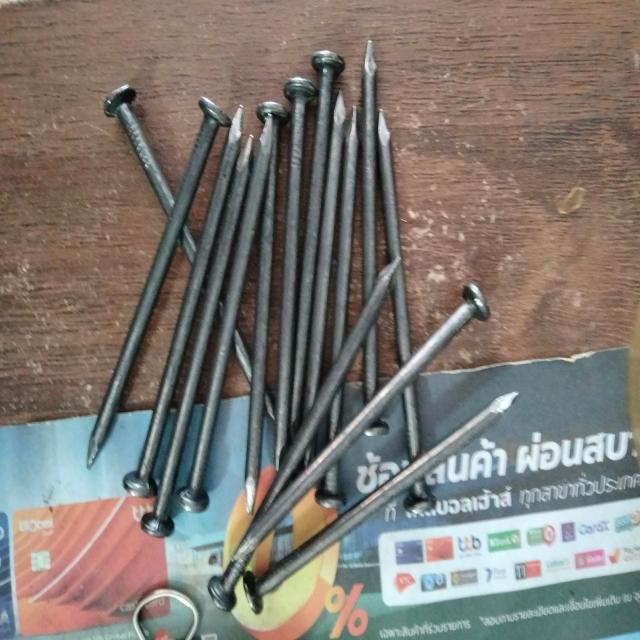3x8 nail: (204, 268, 528, 622), (73, 85, 239, 542)
